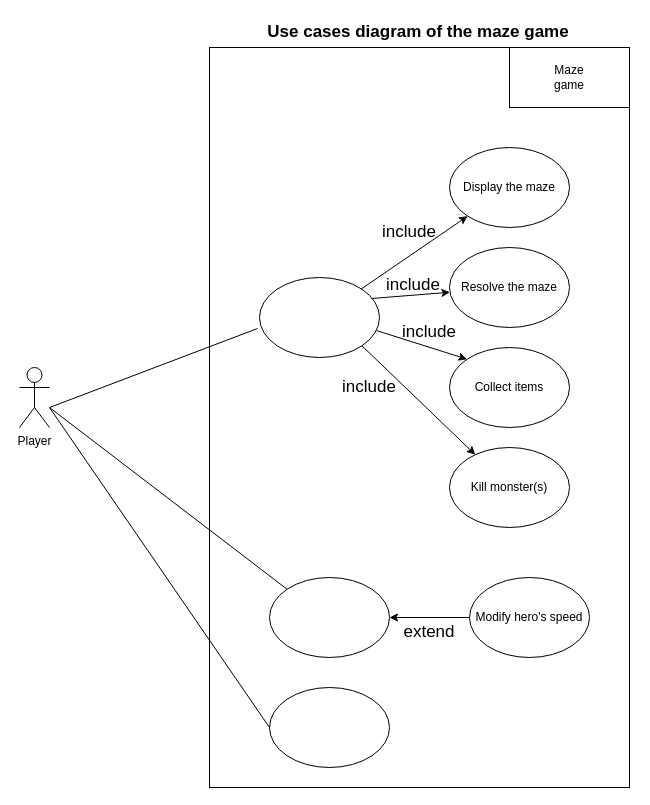
This 650x805 diagram has some shape labels left out. Here are the shapes that lost their labels. From the top down, the box of each, then its label:
(258, 276, 380, 358): Generate a maze
(268, 576, 390, 658): Move hero
(268, 686, 390, 768): Stop the game
